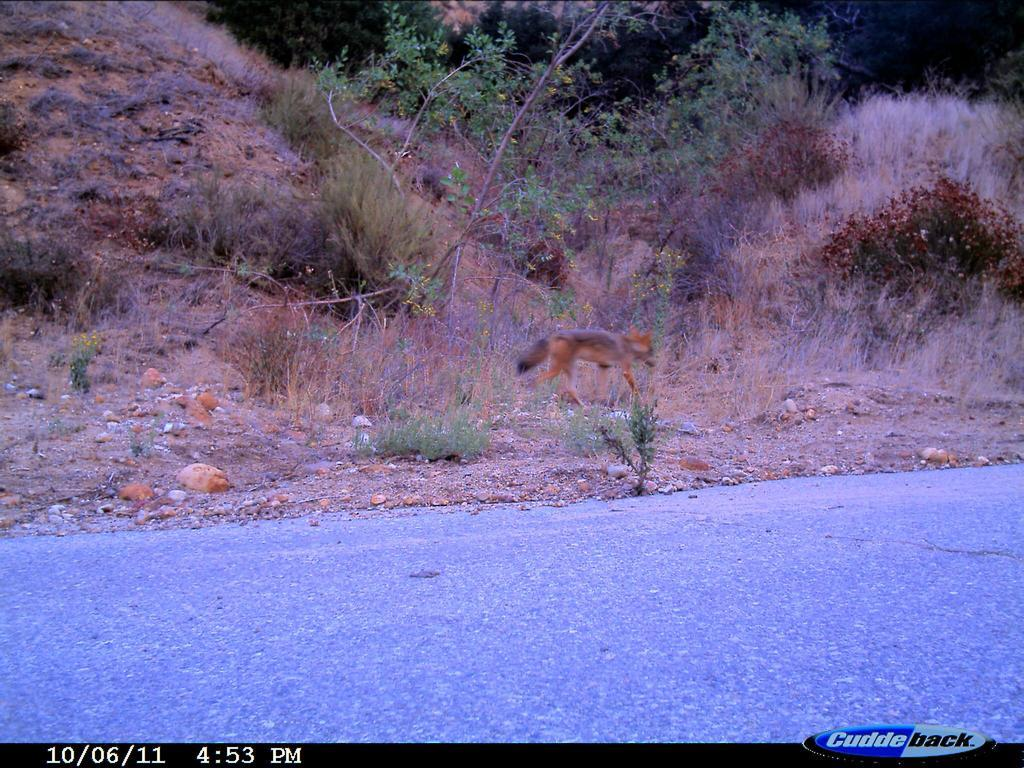coyote: (515, 319, 666, 413)
